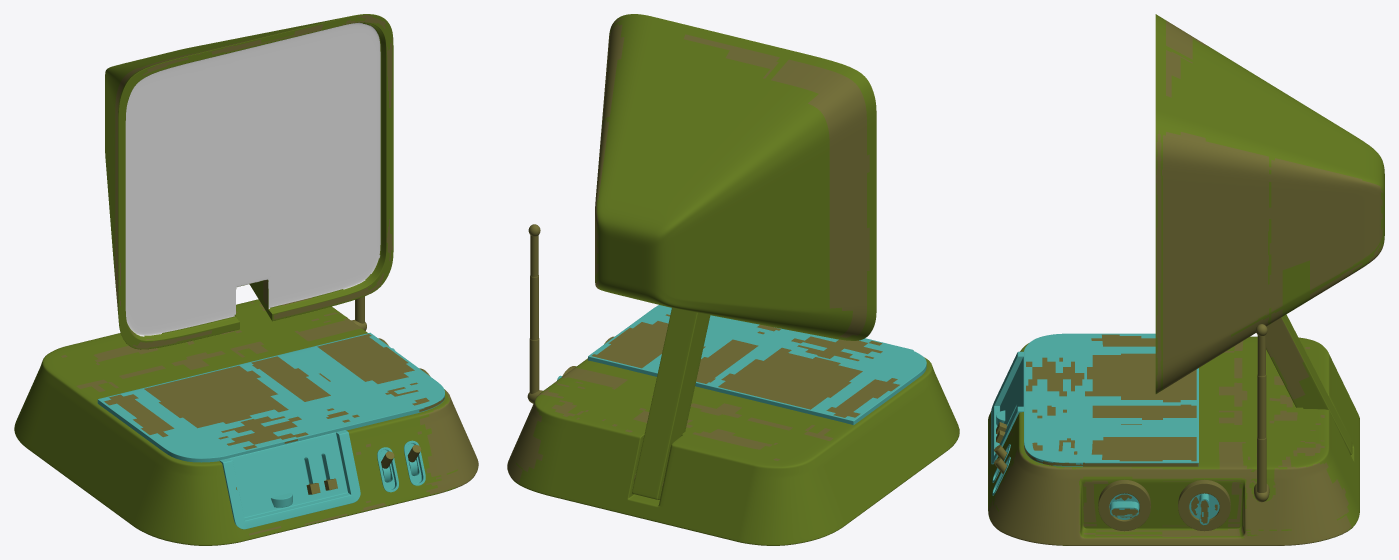
Rendered from computer.glb.
The picture shows the model from 3 angles, left to right: view 1: azimuth 30°, elevation 25°; view 2: azimuth 150°, elevation 25°; view 3: azimuth 270°, elevation 25°; orthographic projection. The views are drawn at different scales.
Parts seen in each view (by area): view 1: 20921_Old_Television_Set_radio_combination_v1, 20921_Old_Television_Set_radio_combination_v1.002; view 2: 20921_Old_Television_Set_radio_combination_v1; view 3: 20921_Old_Television_Set_radio_combination_v1.
Part boxes in pixels (x1,y1,x2,y2): 20921_Old_Television_Set_radio_combination_v1: (14, 14, 478, 545); 20921_Old_Television_Set_radio_combination_v1.002: (125, 22, 380, 336); 20921_Old_Television_Set_radio_combination_v1: (507, 14, 959, 545); 20921_Old_Television_Set_radio_combination_v1: (988, 14, 1384, 545).
Bounding box in the file's own units: 5.68 × 6.79 × 6.06.
